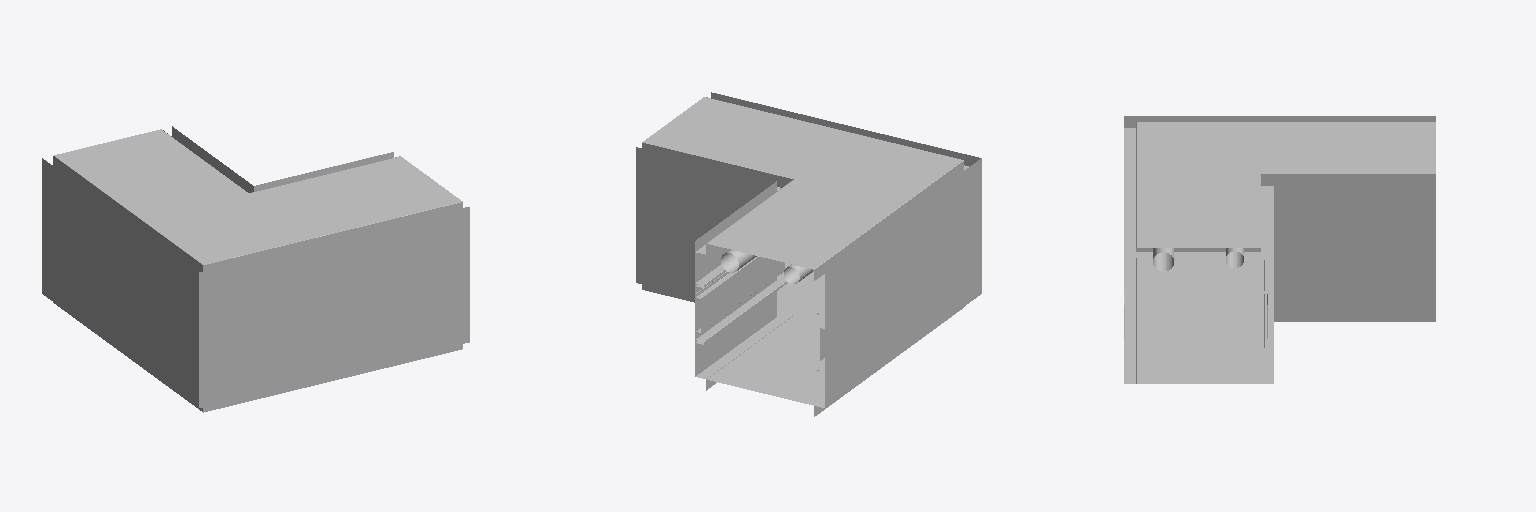
File: Lcorner.obj
The picture shows the model from 3 angles: view 1: azimuth 30°, elevation 25°; view 2: azimuth 150°, elevation 25°; view 3: azimuth 270°, elevation 25°; orthographic projection.
Parts seen in each view (by area): view 1: Cube.039_Cube.052, Cube.207_Cube.112, Cube.054_Cube.065, Cube.038_Cube.053; view 2: Cube.039_Cube.052, Cube.207_Cube.112, Cube_Cube.050, Cube.006_Cube.019, Cube.054_Cube.065, Cube.038_Cube.053, Cube.056_Cube.071; view 3: Cube.207_Cube.112, Cube.039_Cube.052, Cube_Cube.050, Cube.054_Cube.065, Cube.038_Cube.053, Cube.056_Cube.071, Cube.006_Cube.019.
Part boxes in pixels (left/top/right/bottom): Cube.039_Cube.052: left=42, top=126, right=469, bottom=407; Cube.207_Cube.112: left=54, top=129, right=462, bottom=264; Cube.054_Cube.065: left=53, top=130, right=462, bottom=271; Cube.038_Cube.053: left=53, top=302, right=462, bottom=412; Cube.039_Cube.052: left=636, top=92, right=981, bottom=407; Cube.207_Cube.112: left=642, top=97, right=963, bottom=269; Cube_Cube.050: left=707, top=263, right=824, bottom=405; Cube.006_Cube.019: left=696, top=256, right=824, bottom=362; Cube.054_Cube.065: left=642, top=97, right=968, bottom=283; Cube.038_Cube.053: left=642, top=285, right=963, bottom=416; Cube.056_Cube.071: left=696, top=265, right=824, bottom=373; Cube.207_Cube.112: left=1136, top=122, right=1435, bottom=247; Cube.039_Cube.052: left=1124, top=116, right=1435, bottom=315; Cube_Cube.050: left=1136, top=258, right=1263, bottom=383; Cube.054_Cube.065: left=1124, top=128, right=1435, bottom=259; Cube.038_Cube.053: left=1124, top=252, right=1435, bottom=383; Cube.056_Cube.071: left=1124, top=260, right=1273, bottom=349; Cube.006_Cube.019: left=1124, top=294, right=1273, bottom=341.
Bounding box in the file's own units: 25 × 13 × 25.